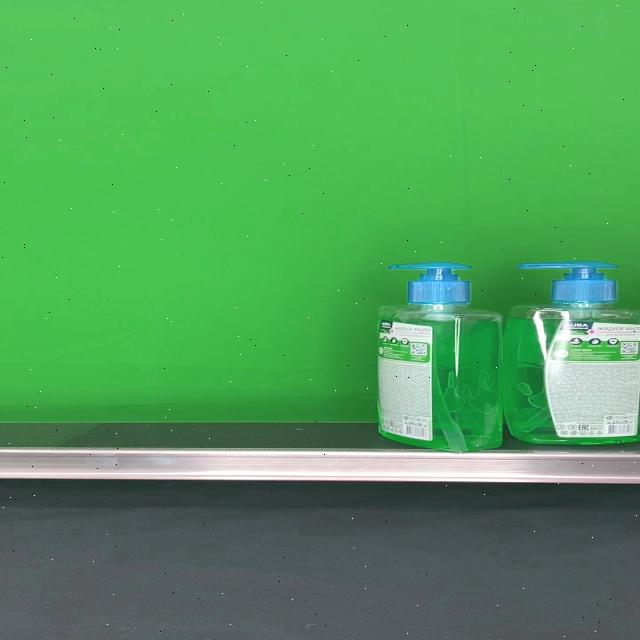Bottle: (503, 262, 640, 444), (375, 262, 503, 451)
Cap: (518, 262, 618, 304), (390, 262, 472, 304)
